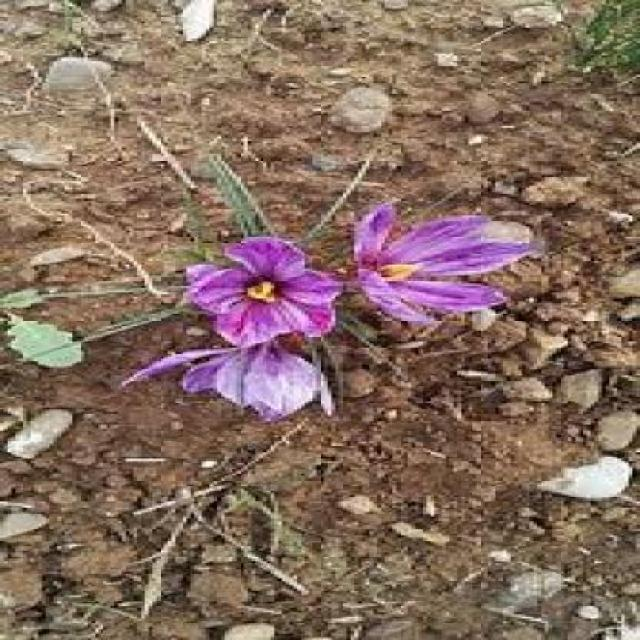Flower: (347, 209, 527, 320), (123, 340, 380, 415), (182, 234, 342, 346)
